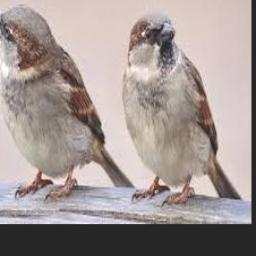Sparrow: (0, 5, 137, 200), (121, 10, 242, 205)
